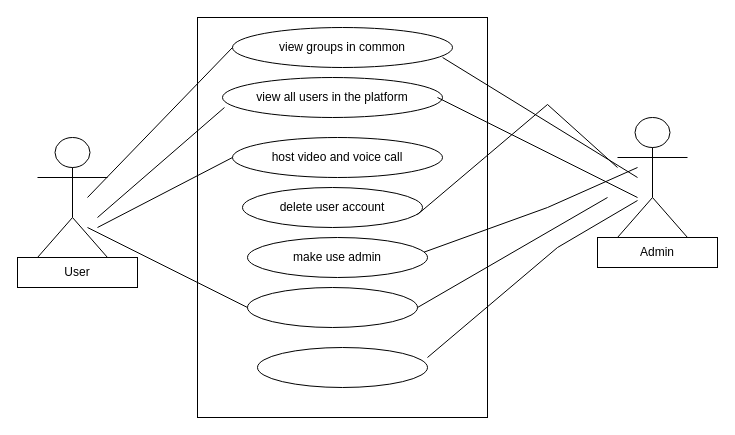
Image size: 735x435. Some labels were removed from this diagram. Each missing label, with the box of its shape:
create user account: (256, 346, 428, 388)
update usersdetails: (246, 286, 418, 328)
